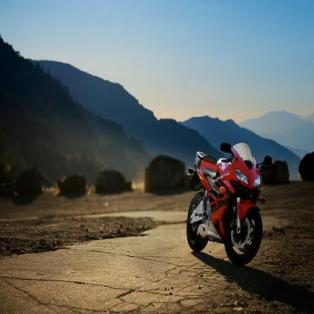Motocicleta: (188, 137, 266, 263)
